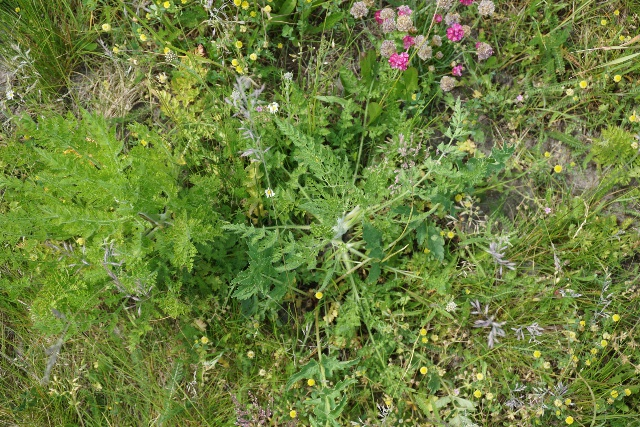armeria-maritima: (349, 0, 499, 94)
daucus-carota: (227, 65, 514, 394), (0, 58, 228, 360)
